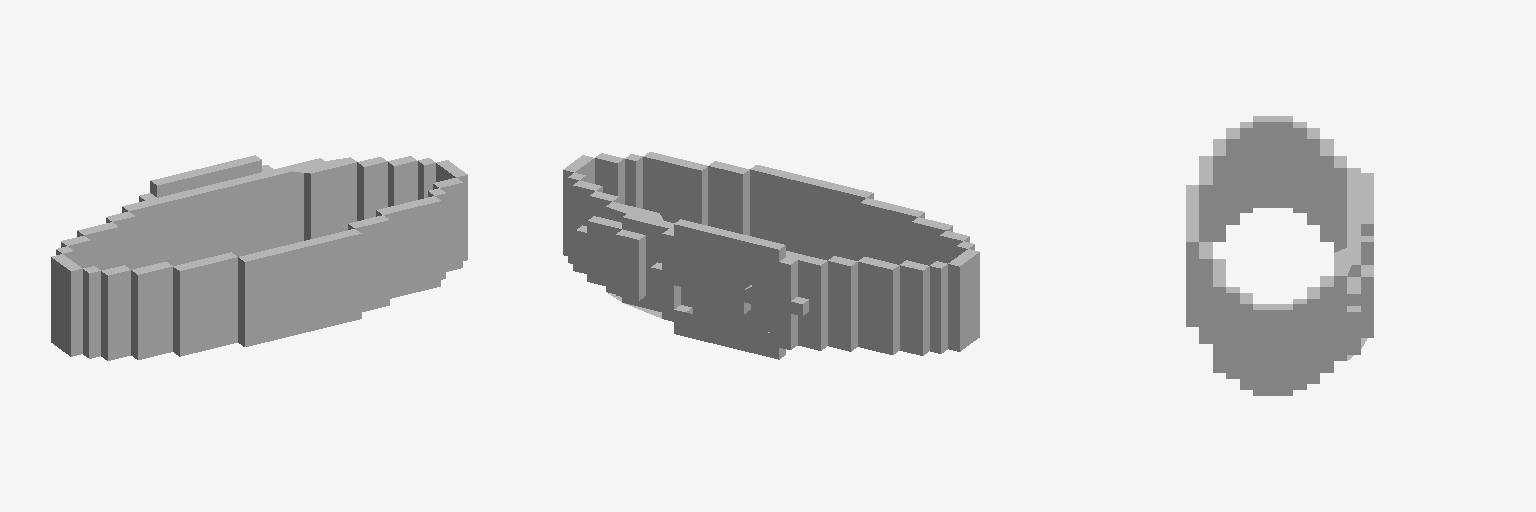
The model's file is Belt_Leather_Studded.obj.
The picture shows the model from 3 angles: view 1: azimuth 30°, elevation 25°; view 2: azimuth 150°, elevation 25°; view 3: azimuth 270°, elevation 25°; orthographic projection.
Parts seen in each view (by area): view 1: Belt_Leather_Studded; view 2: Belt_Leather_Studded; view 3: Belt_Leather_Studded.
Boxes of the visible parts, x1,y1,x2,y2 form: Belt_Leather_Studded: [51, 155, 467, 360]; Belt_Leather_Studded: [563, 152, 979, 359]; Belt_Leather_Studded: [1186, 116, 1373, 395].
Size of the model in its own units: 0.34 by 0.09 by 0.14.